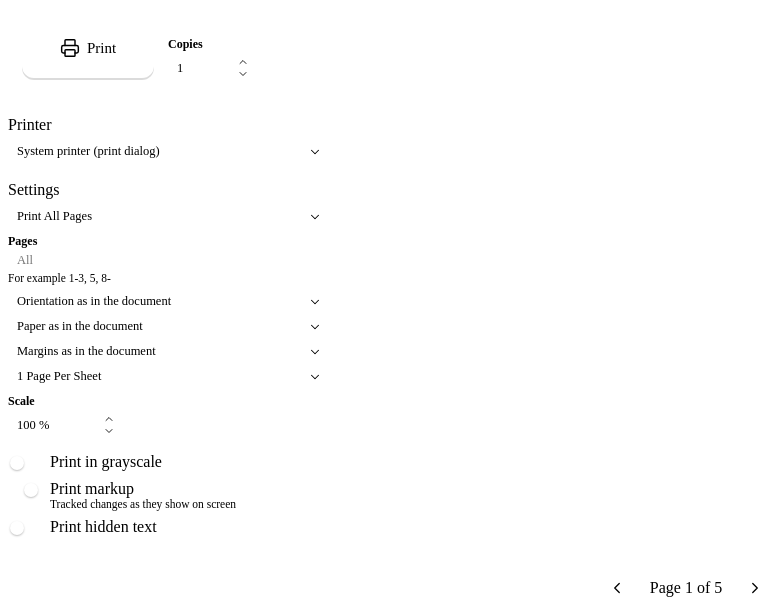
it: PrintPane › asks the core for previews, follows the page box and prints with the settings
The width and height of the screenshot is (781, 614).
Expected: the text with test id "print-sheet" reads "Page 1 of 5", [650,579,722,596]
Click the button named "Next page". click: [755, 588]
box: [746,579,764,597]
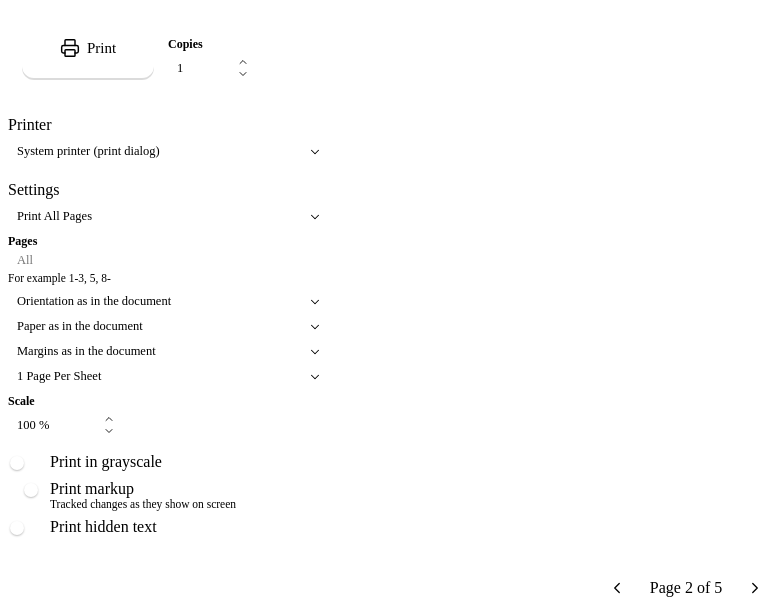
Expected: the text with test id "print-sheet" reads "Page 2 of 5", [650,579,722,596]
Type "3-4" into the field with test id "print-pages". click: [168, 260]
box: [8,253,328,268]
Then press Enter
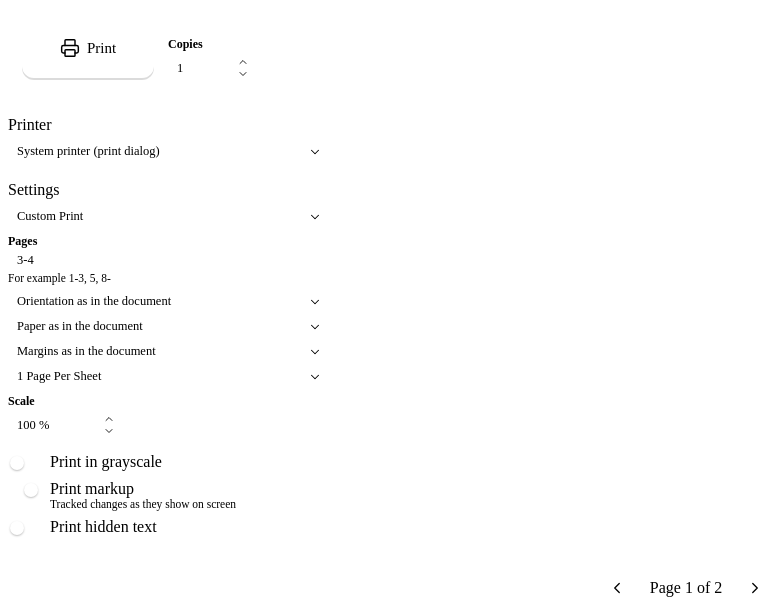
Expected: the text with test id "print-sheet" reads "Page 1 of 2", [650,579,722,596]
Click the button with test id "print-go". click: [88, 48]
box: [22,16,154,80]
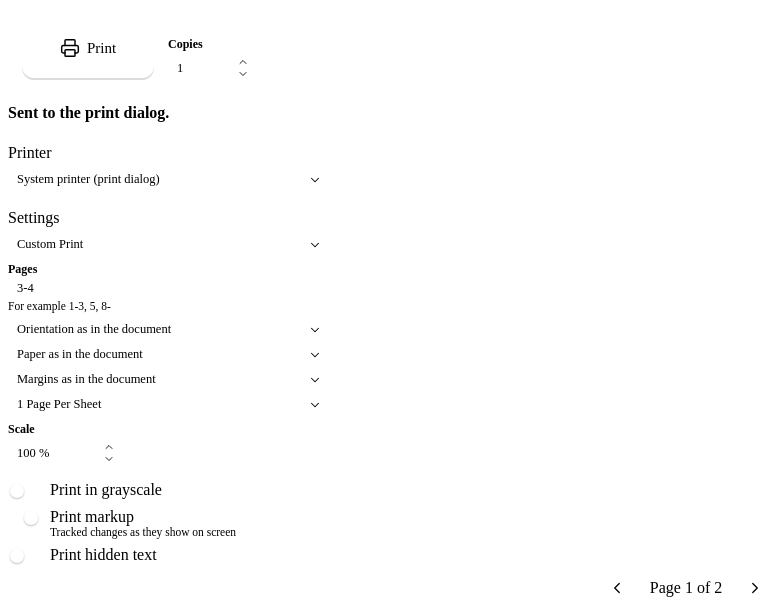
Expected: the message reads "Sent to the print dialog.", [8,104,169,121]
